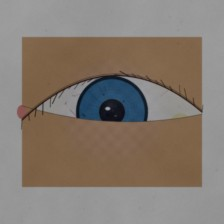pinguecula_lesion: (162, 106, 198, 135)
